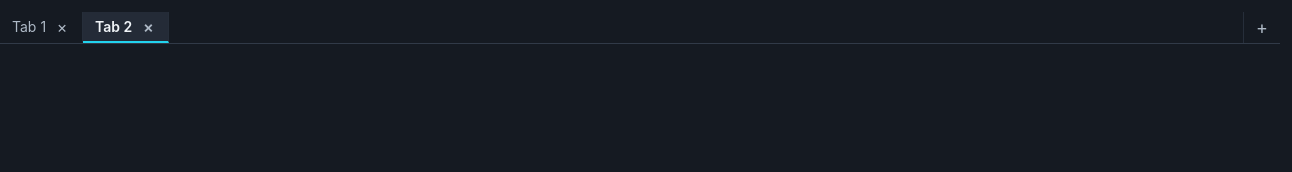
Test: TabBar › keyboard and screen readers (#402) › pressing another tab still commits a rename in progress
Step 1. Double-click the text "Tab 1" → (29, 27), box [12,16,46,37]
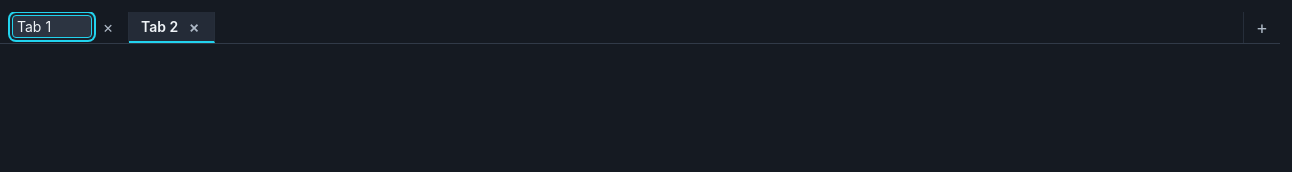
Step 2. Replace the text in the field showing "Tab 1" with "Renamed" → (52, 26), box [12,15,92,38]
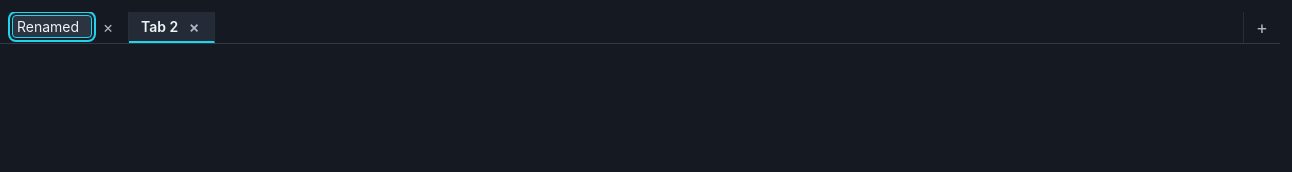
Step 3. Press the mouse on the tab "Tab 2 ×" → (172, 28), box [129,12,215,43]
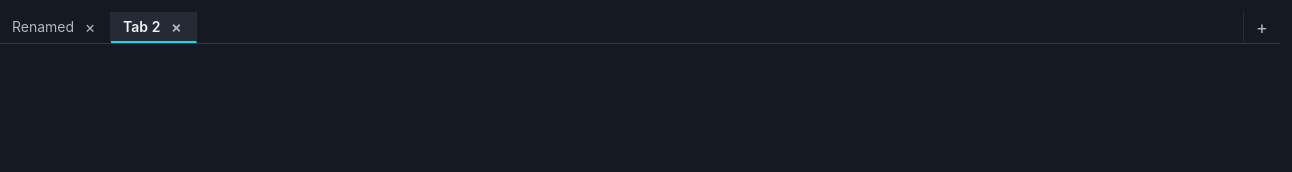
Check: the text "Renamed" is shown, box [12,16,74,37]
